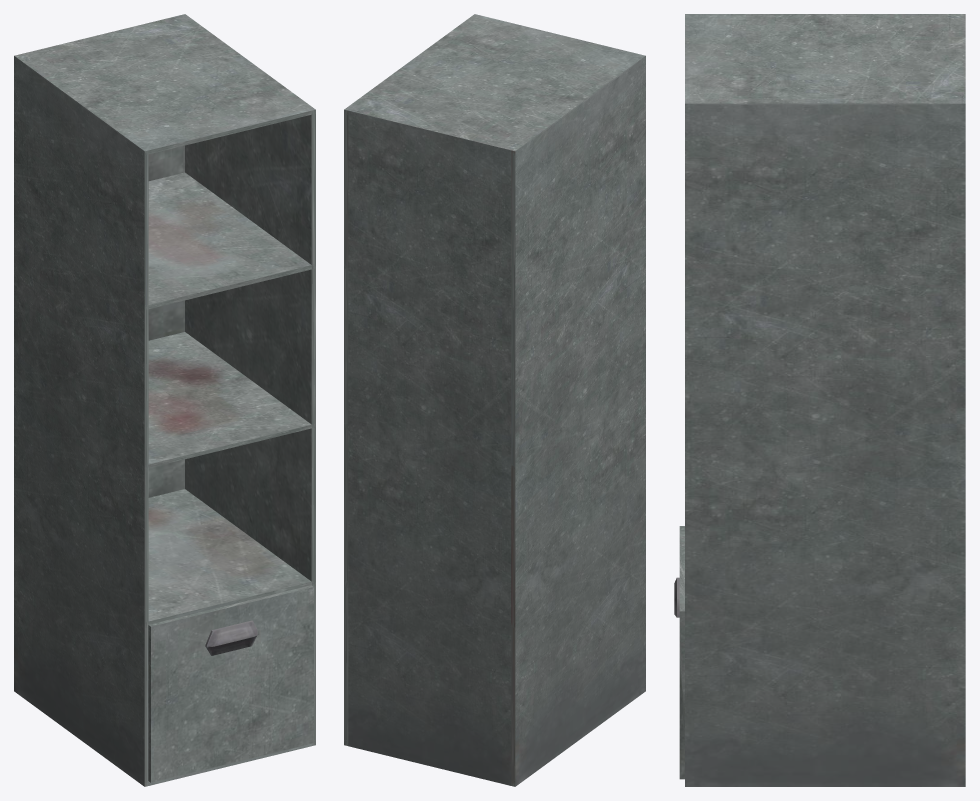
File: DockCabinet.fbx
3 views of the same model, side by side, from view 1: azimuth 30°, elevation 25°; view 2: azimuth 150°, elevation 25°; view 3: azimuth 270°, elevation 25° (orthographic). The views are drawn at different scales.
Visible parts, largest first — view 1: FileCabinet, FileCabinetBox; view 2: FileCabinet; view 3: FileCabinet, FileCabinetBox.
Part boxes in pixels (bbox=[...]): FileCabinet: bbox=[14, 14, 315, 786]; FileCabinetBox: bbox=[148, 585, 313, 782]; FileCabinet: bbox=[344, 14, 645, 786]; FileCabinet: bbox=[685, 14, 965, 786]; FileCabinetBox: bbox=[674, 526, 684, 779].
Size of the model in its own units: 109 by 387 by 150.
